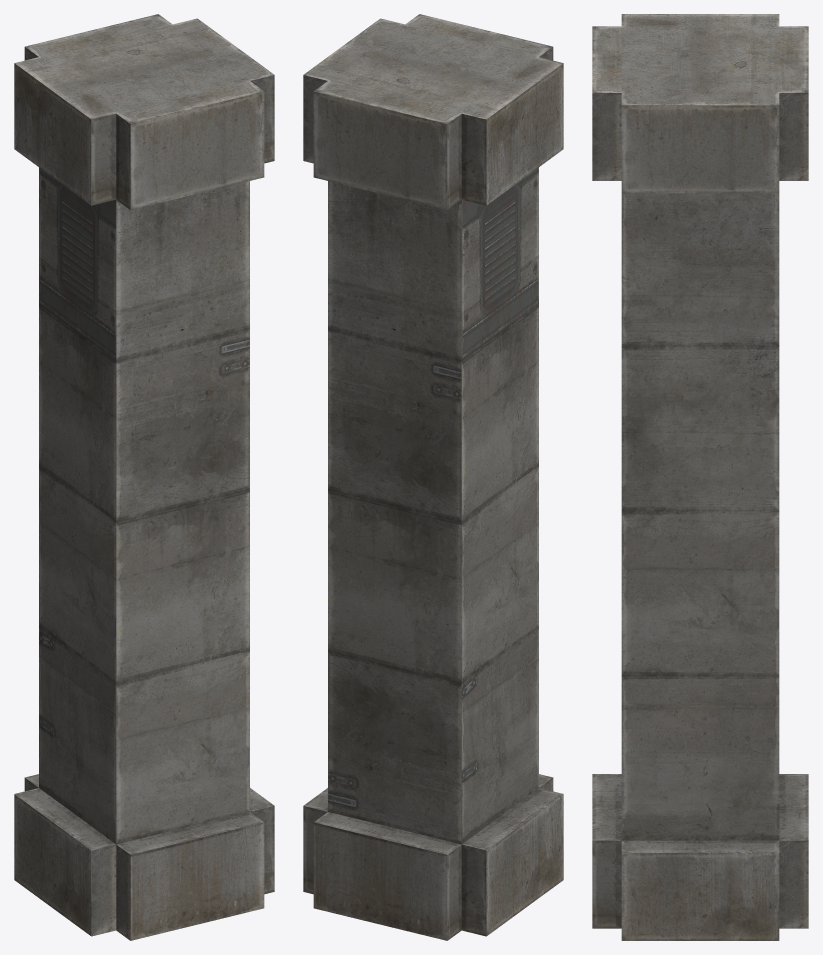
File: CP_Column_Concrete_A_03.fbx
3 views of the same model, side by side, from view 1: azimuth 30°, elevation 25°; view 2: azimuth 150°, elevation 25°; view 3: azimuth 270°, elevation 25° (orthographic). The views are drawn at different scales.
Visible parts, largest first — view 1: CP_Column_Concrete_A_03; view 2: CP_Column_Concrete_A_03; view 3: CP_Column_Concrete_A_03.
Part boxes in pixels (<box>): CP_Column_Concrete_A_03: <box>14,14,274,940</box>; CP_Column_Concrete_A_03: <box>303,14,563,940</box>; CP_Column_Concrete_A_03: <box>592,14,808,940</box>.
Size of the model in its own units: 93.9 by 400 by 93.9.
